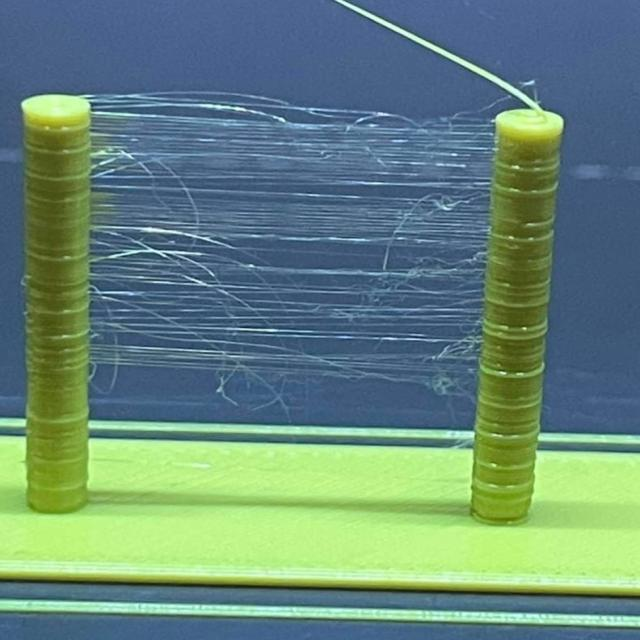Stringing: (86, 95, 500, 394)
